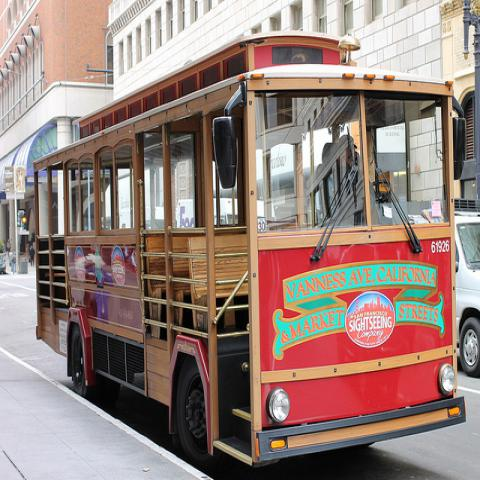bus: (26, 26, 469, 469)
car: (455, 215, 479, 378)
truck: (454, 214, 479, 376)
